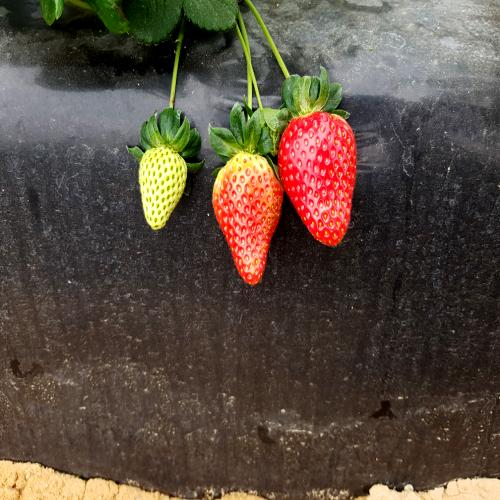partially-ripe: (209, 148, 281, 295)
ripe: (276, 94, 352, 248)
